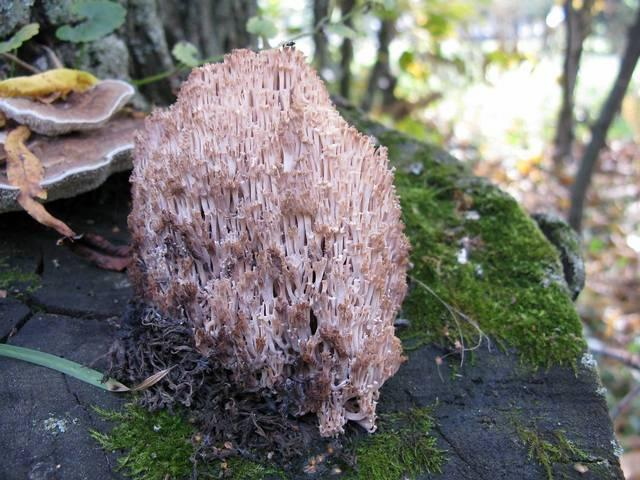Edible Mushroom: (121, 42, 413, 439)
